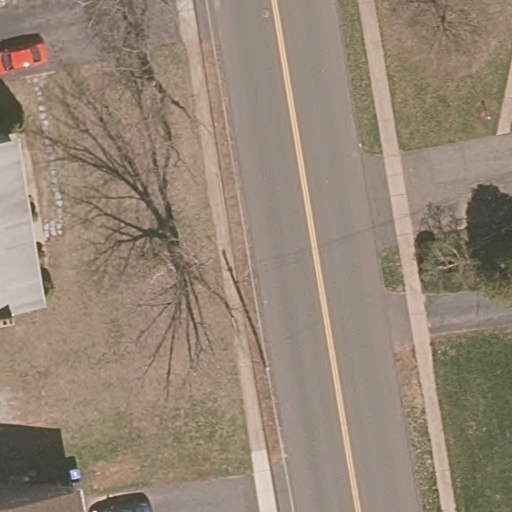DT: (248, 316, 277, 373)
